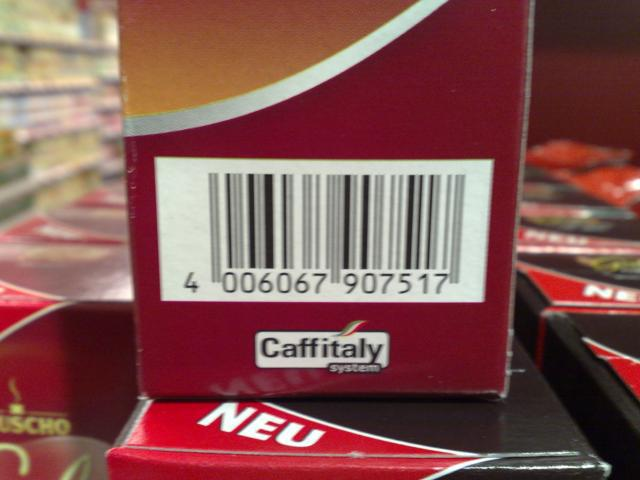Barkod: (208, 171, 464, 271)
